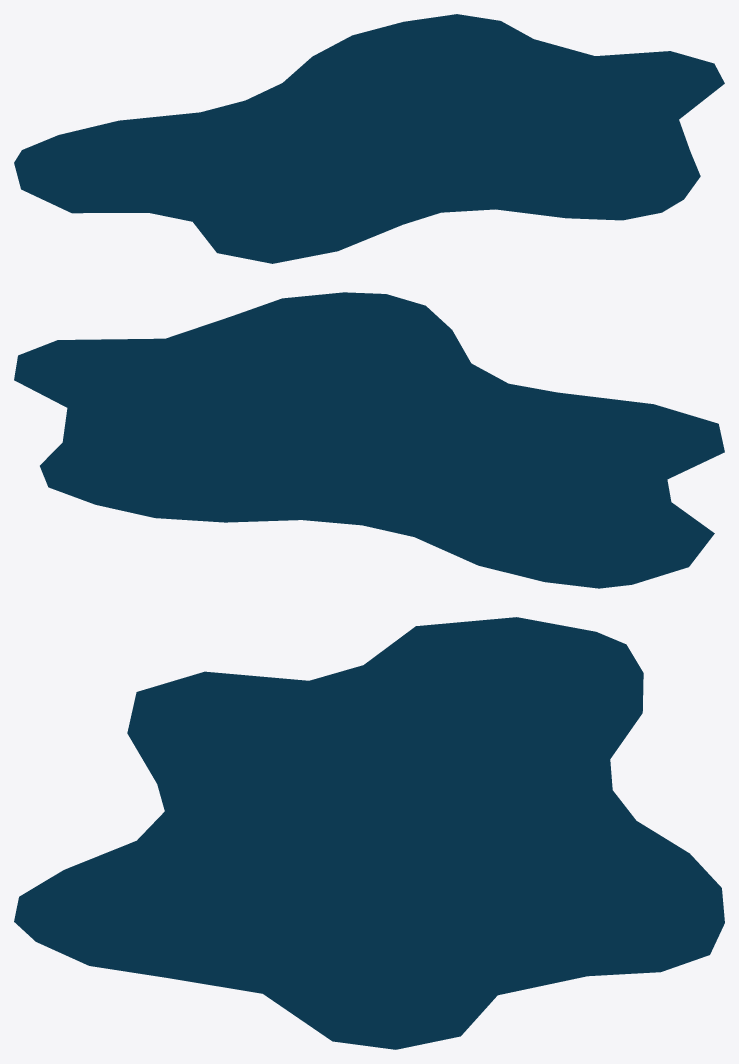
File: cloud1.fbx
3 renders of one model, top to bottom at view 1: azimuth 30°, elevation 25°; view 2: azimuth 150°, elevation 25°; view 3: azimuth 270°, elevation 25°, orthographic. The views are drawn at different scales.
Visible parts, largest first — view 1: cloud; view 2: cloud; view 3: cloud.
Part boxes in pixels (x1=…): cloud: x1=14, y1=14, x2=724, y2=263; cloud: x1=14, y1=292, x2=724, y2=588; cloud: x1=14, y1=617, x2=724, y2=1049.
Size of the model in its own units: 18.07 by 0 by 12.55.
